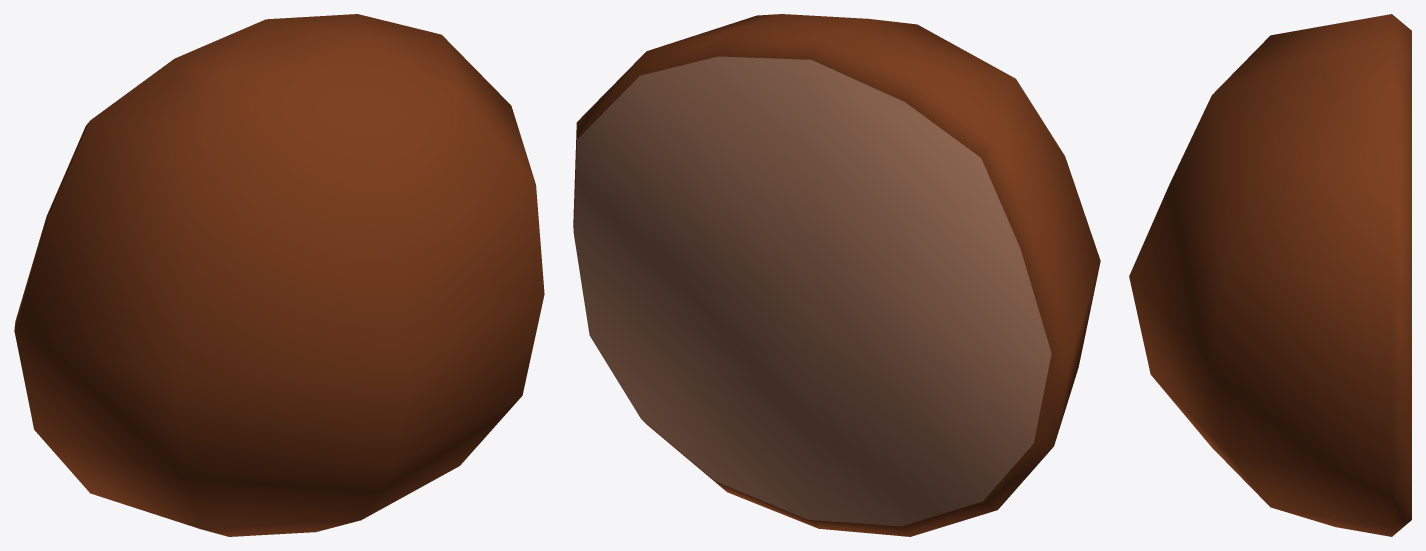
The model's file is SM_Meatball_Half_001.fbx.
3 renders of one model, left to right at view 1: azimuth 30°, elevation 25°; view 2: azimuth 150°, elevation 25°; view 3: azimuth 270°, elevation 25°, orthographic. The views are drawn at different scales.
Visible parts, largest first — view 1: Hele_Gehaktbal.001; view 2: Hele_Gehaktbal.001; view 3: Hele_Gehaktbal.001.
Part boxes in pixels (left/top/right/bottom): Hele_Gehaktbal.001: left=14, top=14, right=544, bottom=536; Hele_Gehaktbal.001: left=573, top=14, right=1100, bottom=536; Hele_Gehaktbal.001: left=1129, top=14, right=1411, bottom=536.
Bounding box in the file's own units: 0.0551 × 0.0519 × 0.0285.
